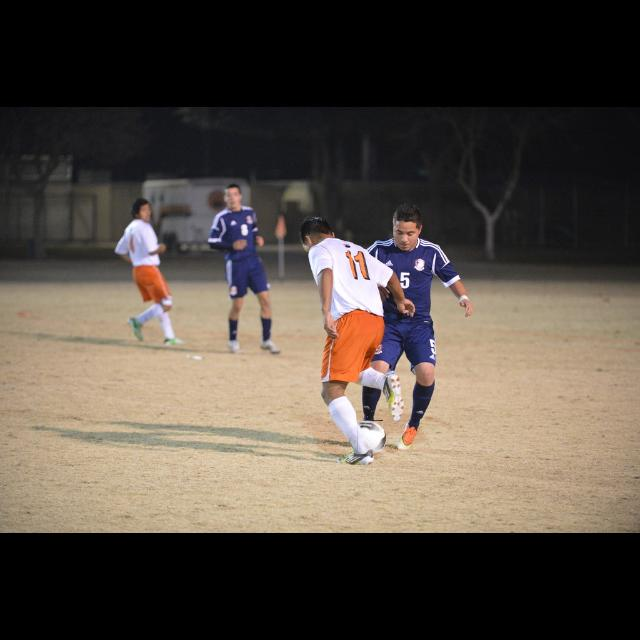Football: (357, 420, 383, 452)
